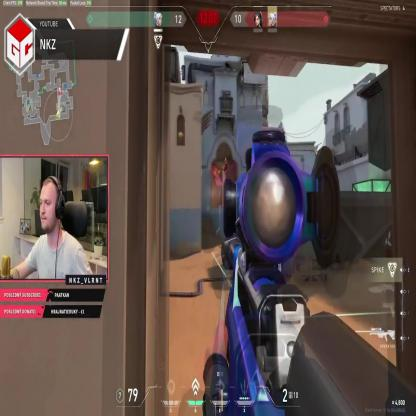enemy: (222, 157, 228, 176)
enemy_head: (224, 156, 226, 161)
